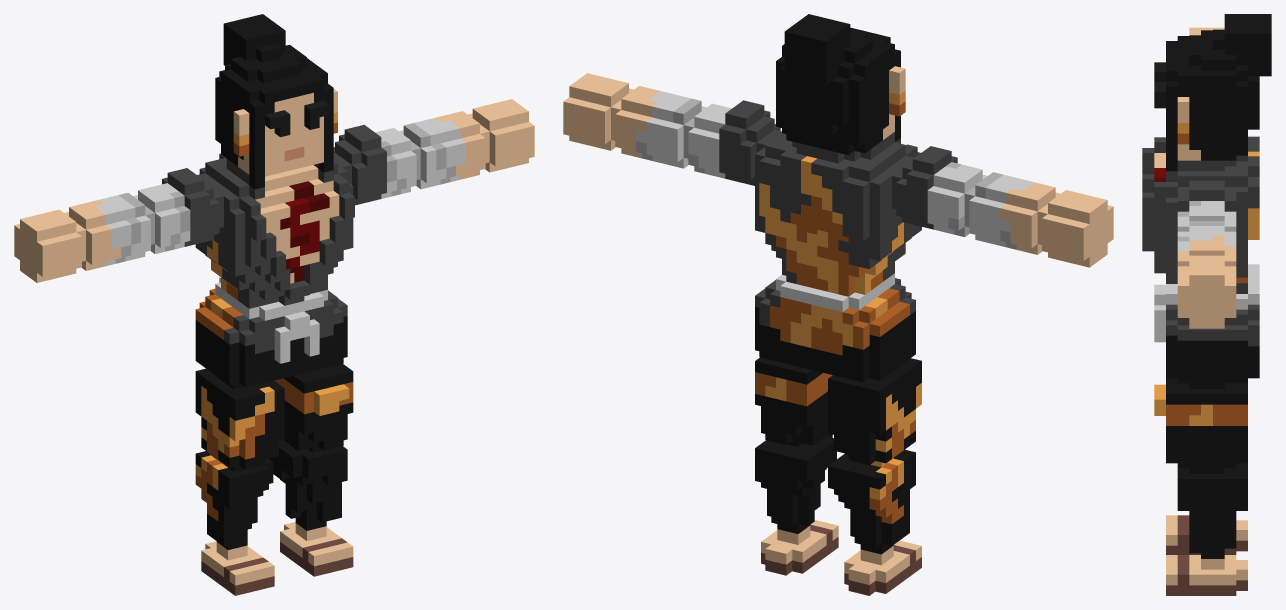
Rendered from human_man_samurai.dae.
3 renders of one model, left to right at view 1: azimuth 30°, elevation 25°; view 2: azimuth 150°, elevation 25°; view 3: azimuth 270°, elevation 25°, orthographic. The views are drawn at different scales.
Visible parts, largest first — view 1: human_man_samurai.001; view 2: human_man_samurai.001; view 3: human_man_samurai.001.
Part boxes in pixels (<box>): human_man_samurai.001: <box>14,14,534,595</box>; human_man_samurai.001: <box>563,14,1113,595</box>; human_man_samurai.001: <box>1142,14,1271,595</box>.
Size of the model in its own units: 5 by 1.1 by 5.1.
1 material, 1 textured.
